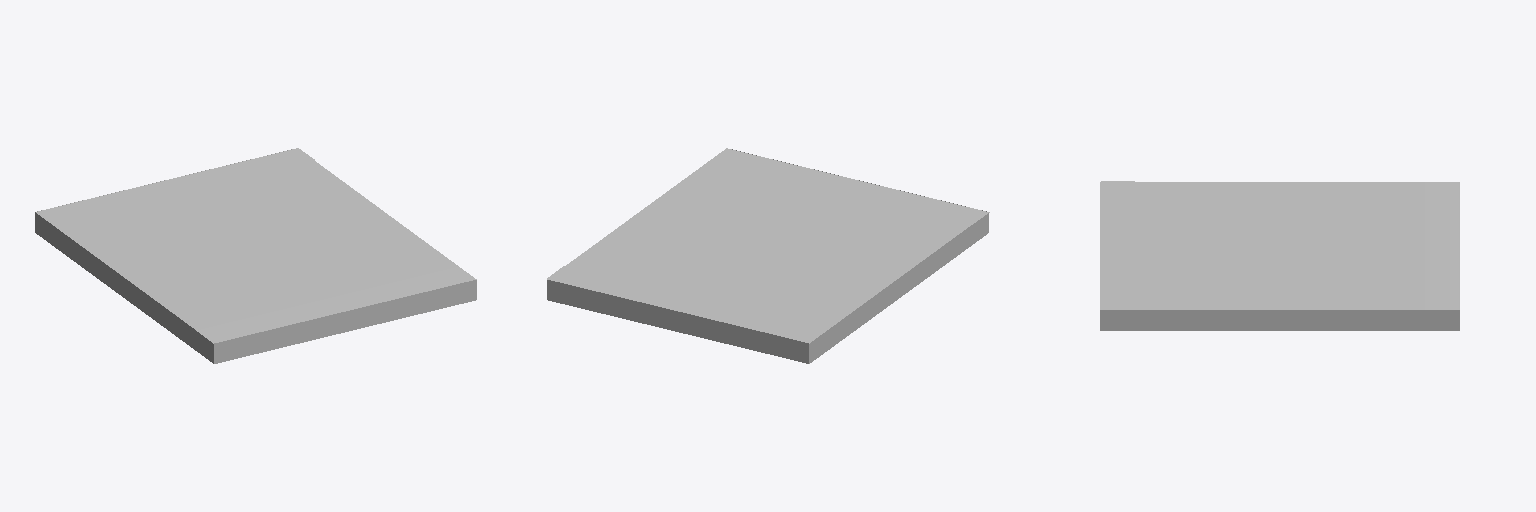
The model's file is Platform_Flat 1.obj.
3 views of the same model, side by side, from view 1: azimuth 30°, elevation 25°; view 2: azimuth 150°, elevation 25°; view 3: azimuth 270°, elevation 25° (orthographic).
Parts seen in each view (by area): view 1: Floor_Base.032; view 2: Floor_Base.032; view 3: Floor_Base.032.
Part boxes in pixels (x1,y1,x2,y2): Floor_Base.032: (35, 148, 476, 363); Floor_Base.032: (547, 148, 989, 363); Floor_Base.032: (1100, 181, 1459, 330).
Bounding box in the file's own units: 8.05 × 0.6131 × 9.47.